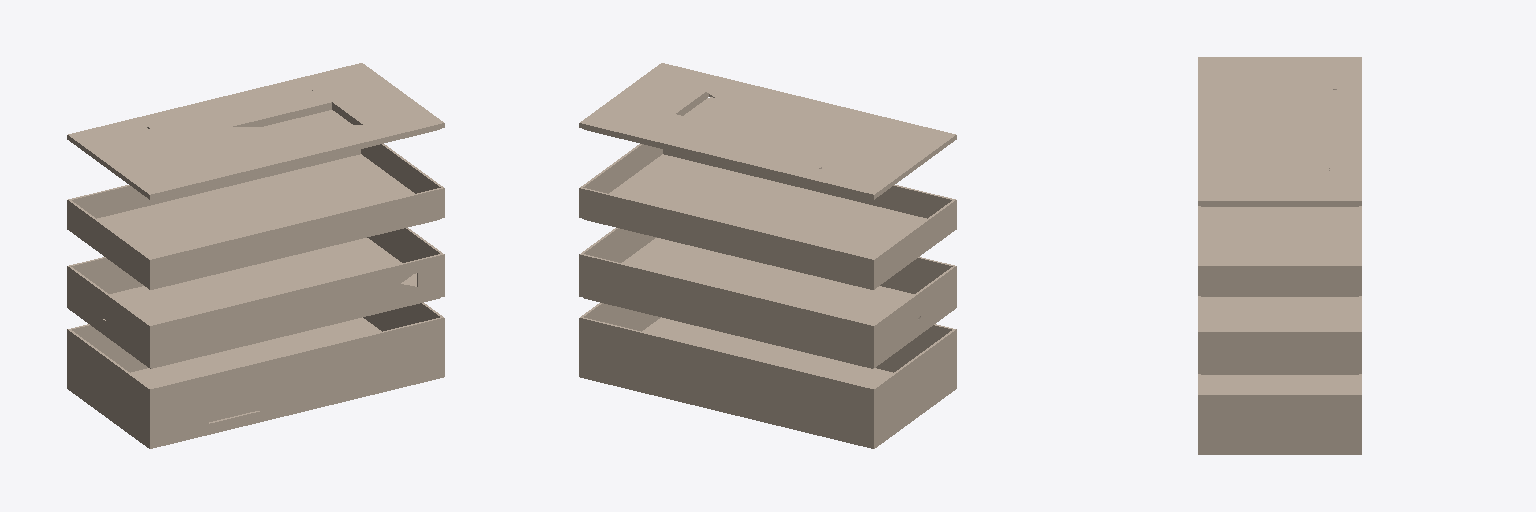
The model's file is case-staging.obj.
The picture shows the model from 3 angles: view 1: azimuth 30°, elevation 25°; view 2: azimuth 150°, elevation 25°; view 3: azimuth 270°, elevation 25°; orthographic projection.
Parts seen in each view (by area): view 1: Cube.006, Cube.004, Cube, Cube.008; view 2: Cube.006, Cube.004, Cube, Cube.008; view 3: Cube.008, Cube.006, Cube.004, Cube.
Part boxes in pixels (left/top/right/bottom): Cube.006: left=67, top=144, right=444, bottom=289; Cube.004: left=67, top=303, right=444, bottom=448; Cube: left=67, top=228, right=444, bottom=368; Cube.008: left=67, top=63, right=444, bottom=199; Cube.006: left=579, top=144, right=956, bottom=289; Cube.004: left=579, top=303, right=956, bottom=448; Cube: left=579, top=228, right=956, bottom=368; Cube.008: left=579, top=63, right=956, bottom=199; Cube.008: left=1198, top=57, right=1361, bottom=206; Cube.006: left=1198, top=206, right=1361, bottom=296; Cube.004: left=1198, top=374, right=1361, bottom=454; Cube: left=1198, top=296, right=1361, bottom=374.
Bounding box in the file's own units: 124 × 102 × 60.